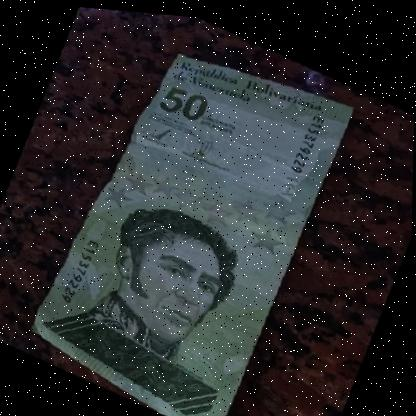fifty-front-vef: (19, 14, 356, 416)
